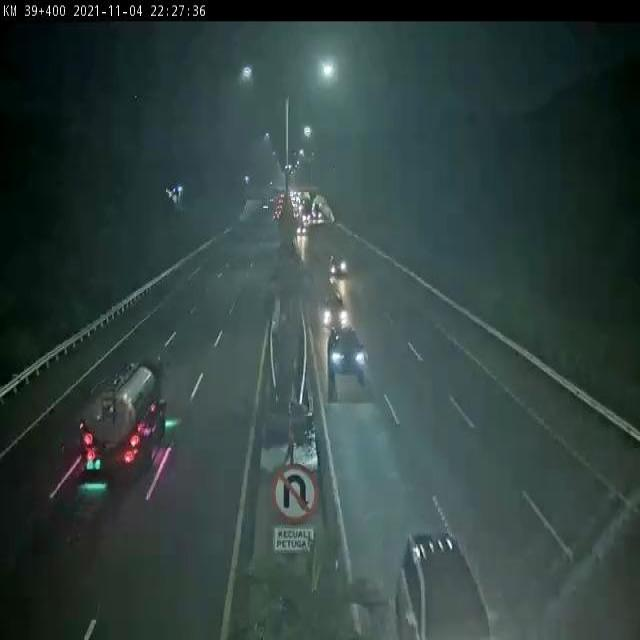car: (326, 326, 365, 382), (321, 293, 349, 327)
truck-l-: (80, 360, 163, 479)
